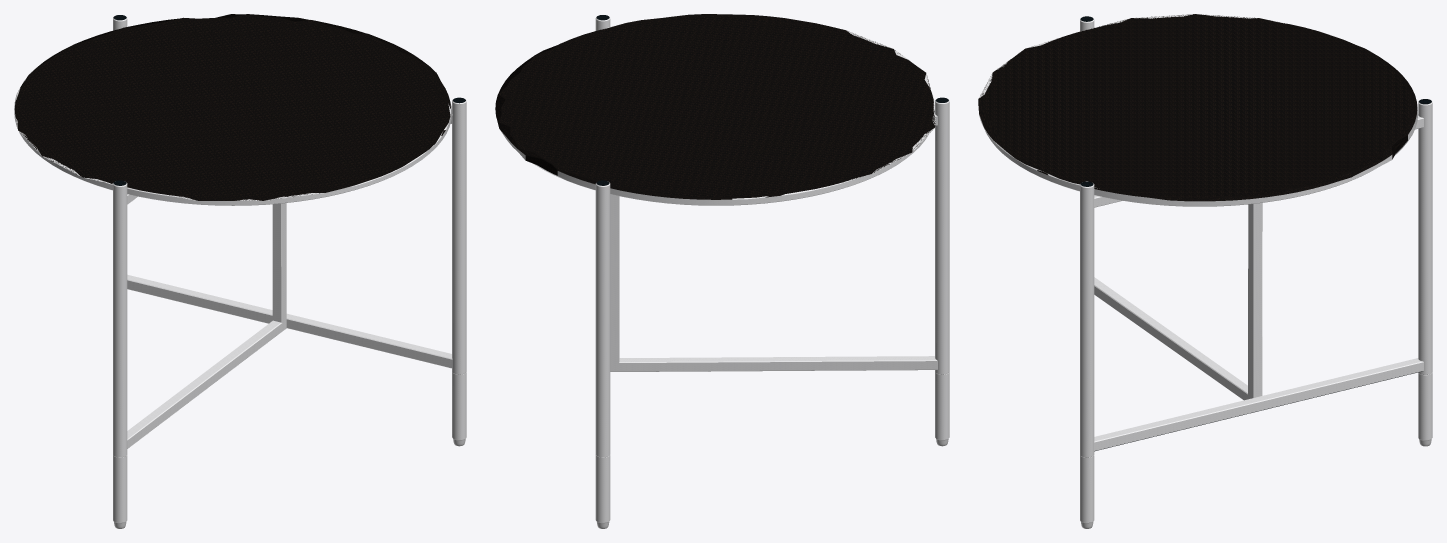
The model's file is Etla.obj.
The picture shows the model from 3 angles, left to right: view 1: azimuth 30°, elevation 25°; view 2: azimuth 150°, elevation 25°; view 3: azimuth 270°, elevation 25°; orthographic projection.
Parts seen in each view (by area): view 1: Etla_D60; view 2: Etla_D60; view 3: Etla_D60.
Boxes of the visible parts, bbox=[...] form: Etla_D60: bbox=[14, 14, 466, 528]; Etla_D60: bbox=[495, 14, 949, 528]; Etla_D60: bbox=[978, 14, 1432, 528].
Size of the model in its own units: 60.72 by 52 by 62.44.
